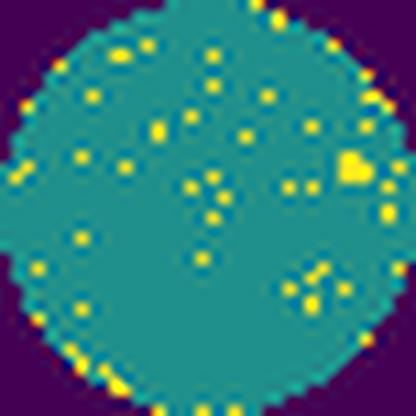Edge-Loc: (334, 145, 376, 187)
